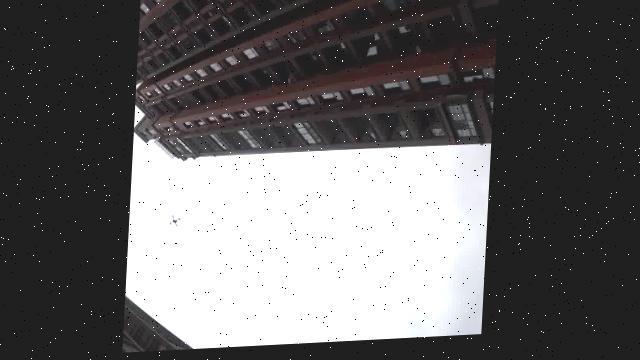drone: (161, 203, 192, 250)
